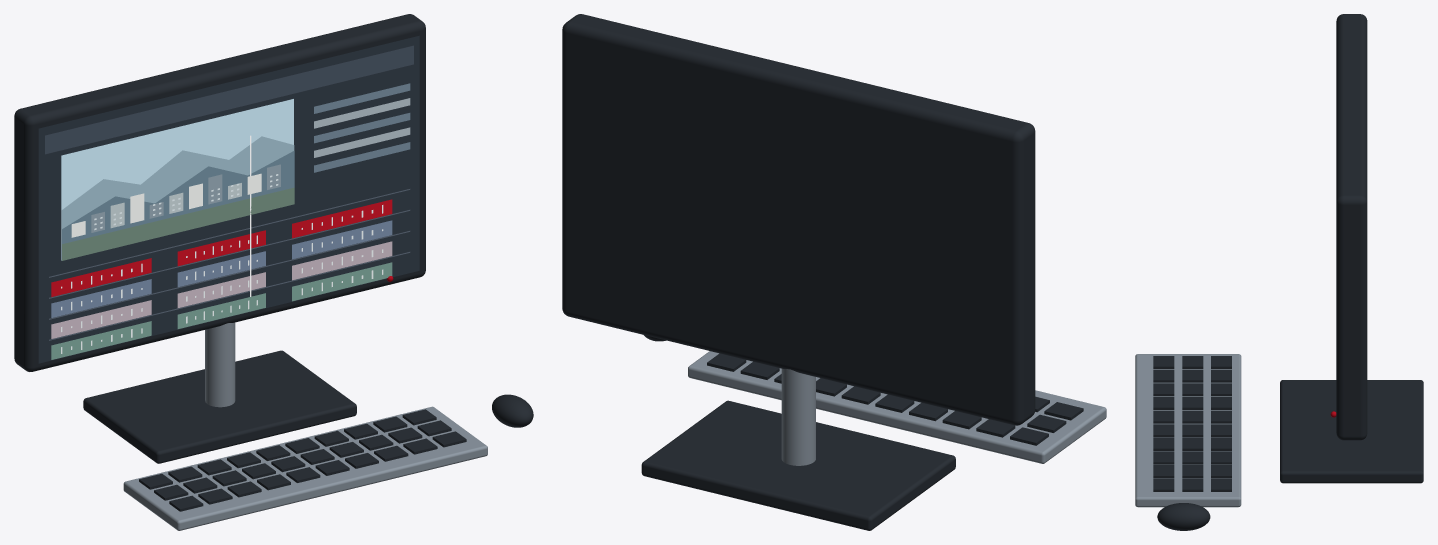
Rendered from posproduccion.glb.
3 views of the same model, side by side, from view 1: azimuth 30°, elevation 25°; view 2: azimuth 150°, elevation 25°; view 3: azimuth 270°, elevation 25° (orthographic). The views are drawn at different scales.
Parts seen in each view (by area): view 1: pantalla, marco, clip_timeline (×12), base, teclado, cordillera (×2), cielo, barra_herramientas, parque, panel_ajustes (×5), soporte, pista (×4) (+1 smaller); view 2: marco, base, teclado, soporte; view 3: marco, base, teclado, raton.
Part boxes in pixels (x1,y1,x2,y2): pantalla: (38,35,419,363); marco: (14,14,425,371); clip_timeline (×12): (51,199,392,359); base: (83,350,356,463); teclado: (123,406,487,530); cordillera (×2): (61,136,294,260); cielo: (61,99,293,260); barra_herramientas: (45,45,413,154); parque: (62,187,294,260); panel_ajustes (×5): (314,83,410,172); soporte: (205,322,235,407); pista (×4): (49,189,410,340); marco: (562,14,1035,425); base: (641,400,955,530); teclado: (688,351,1106,463); soporte: (781,368,815,465); marco: (1336,14,1367,440); base: (1280,380,1423,483); teclado: (1135,354,1241,507); raton: (1157,503,1210,530).
Size of the model in its own units: 2.1 by 1.66 by 1.3.
